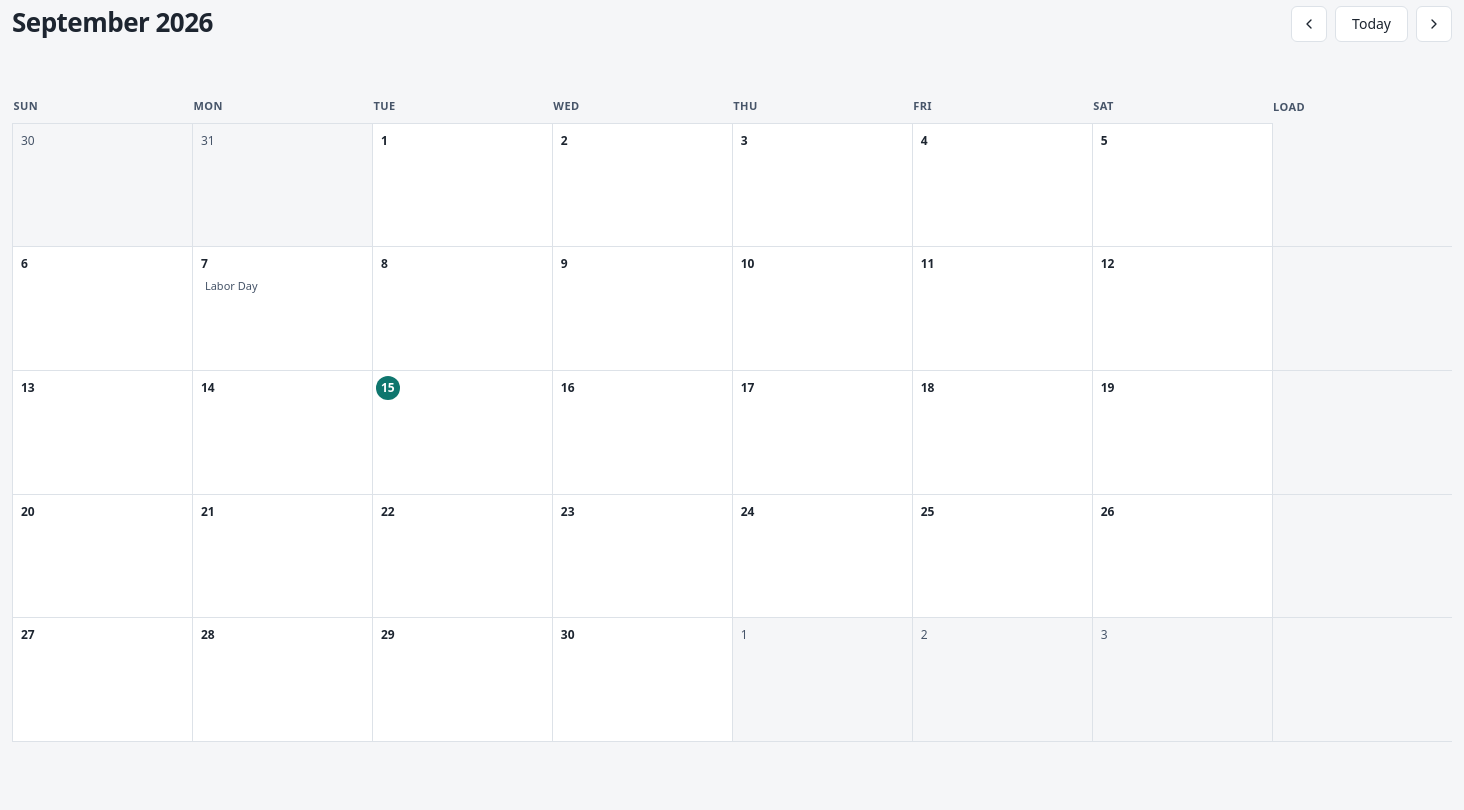
Test: AC-21.3 moving back returns to the month you came from
This screenshot has width=1464, height=810.
Click the button named "next month" at (1434, 24), box [1416, 6, 1452, 42]
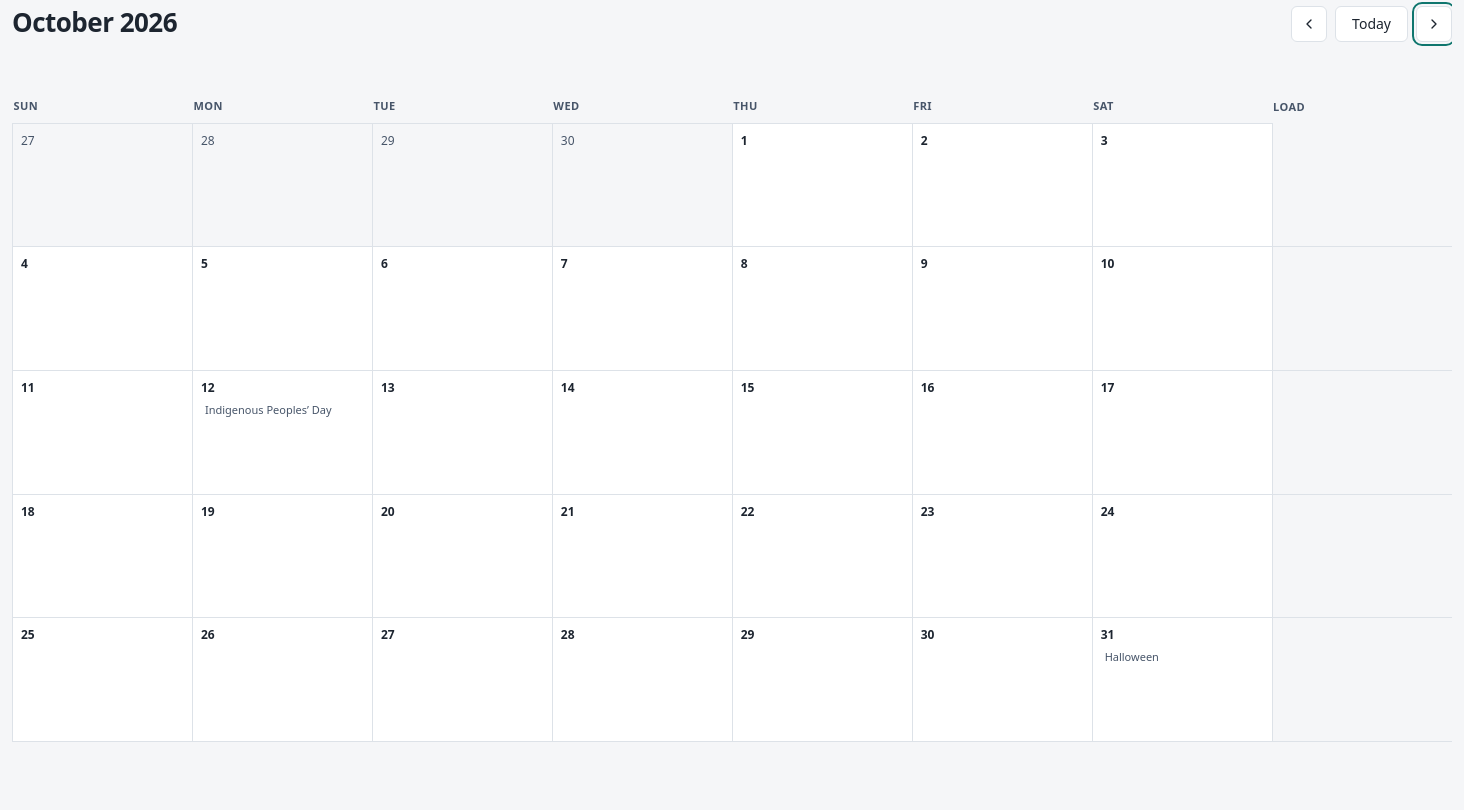
Click the button named "previous month" at (1309, 24), box [1291, 6, 1327, 42]
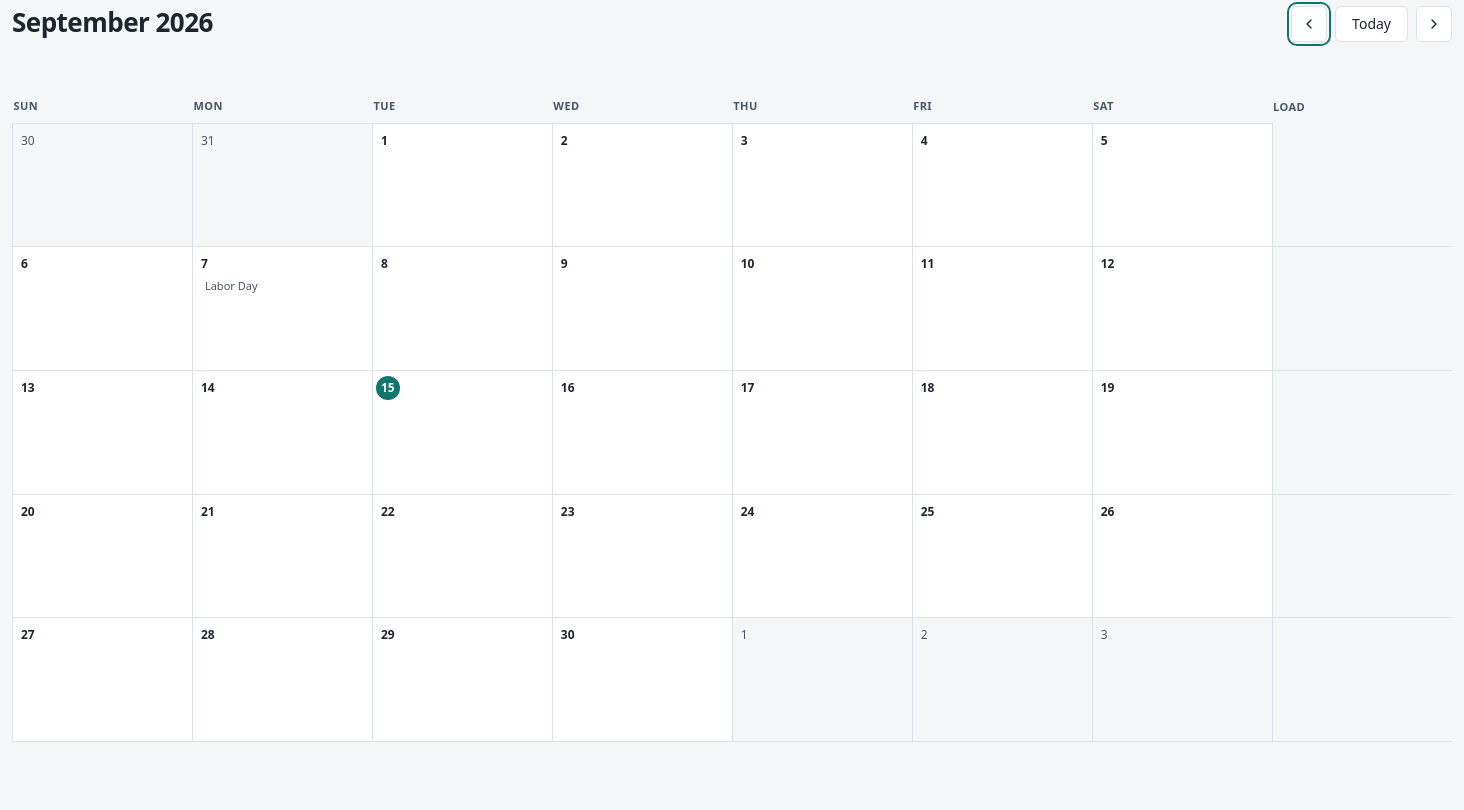
expect the heading "September 2026" is shown: met, box [12, 8, 213, 38]
